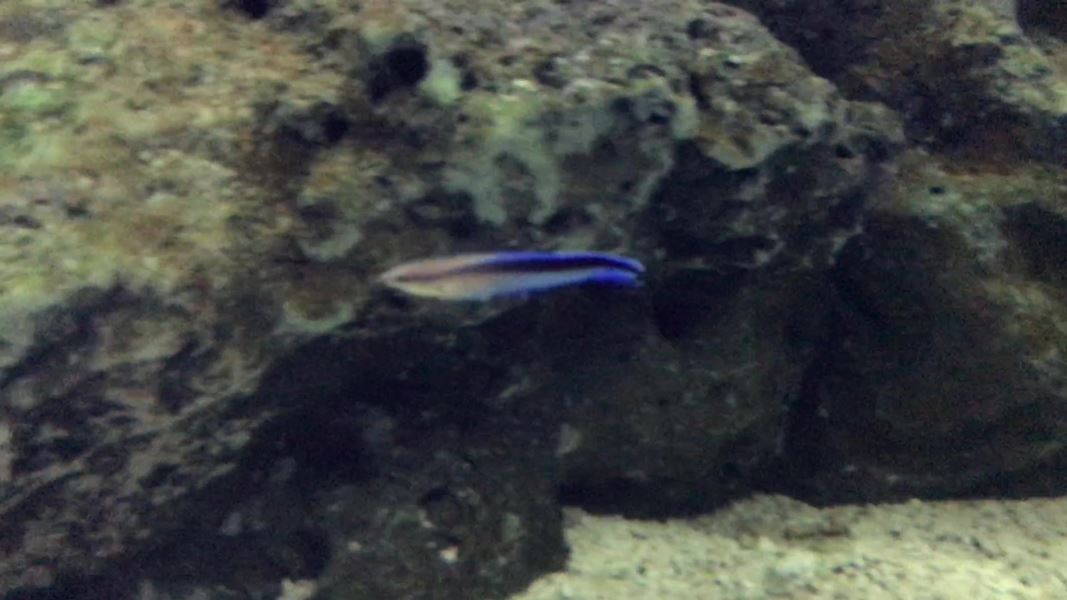Bluesteak cleaner wrasse: (365, 244, 653, 324)
